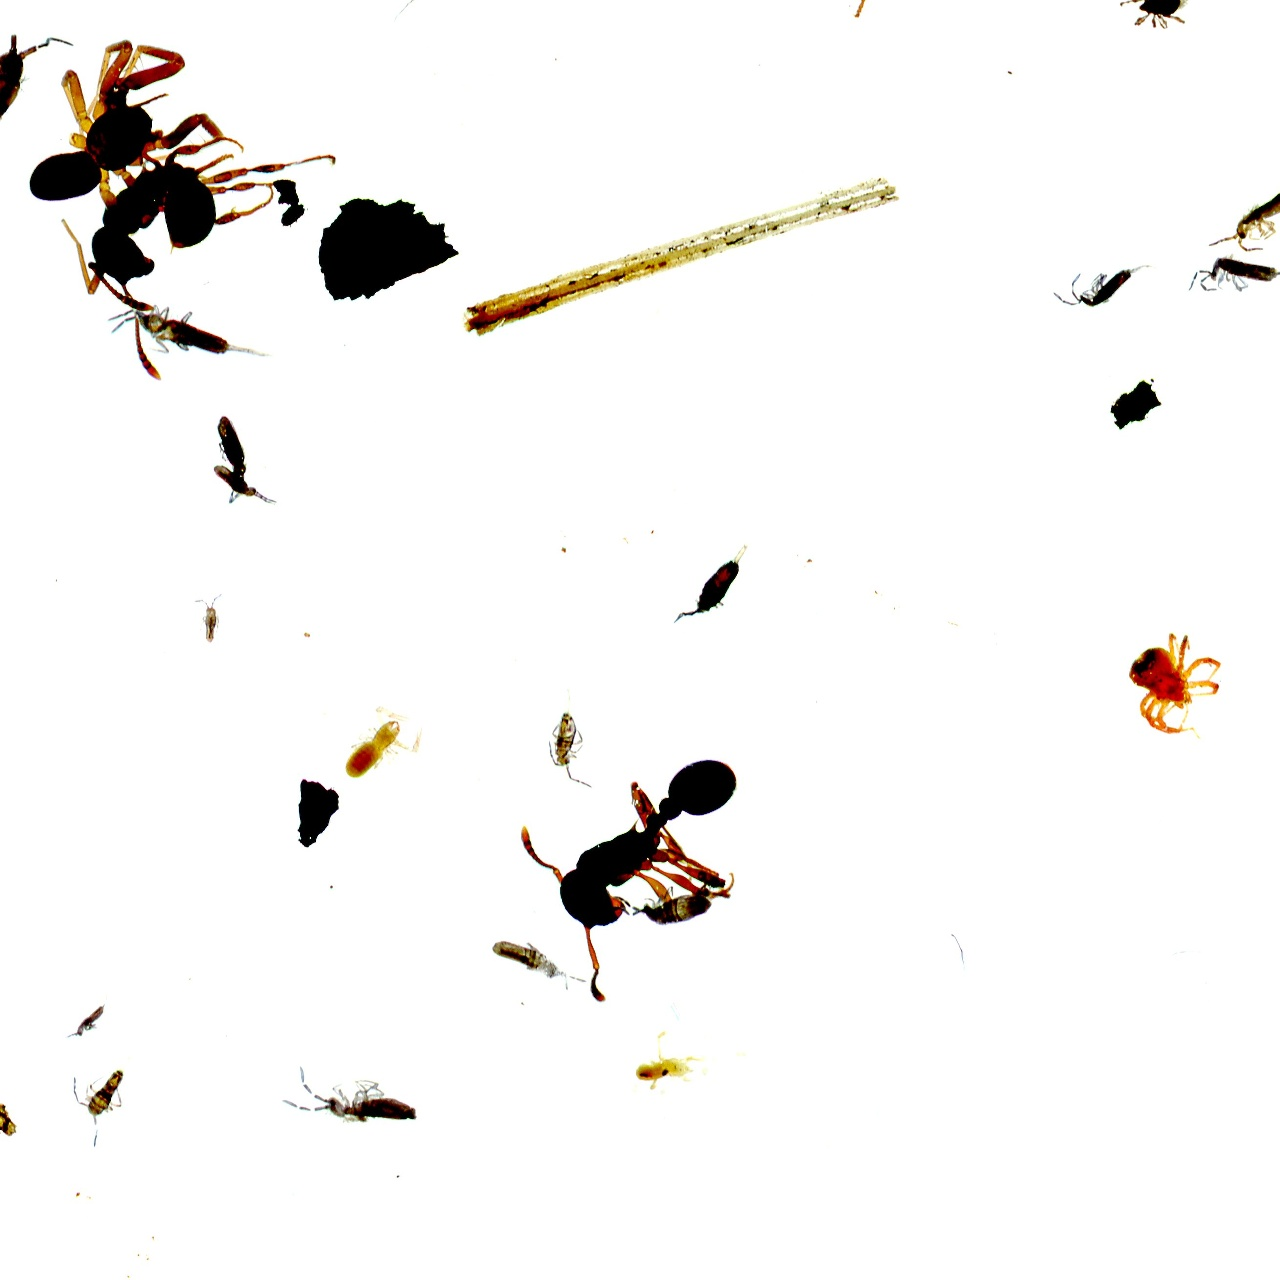arthropod: (450, 669, 801, 1028), (56, 111, 340, 382), (27, 19, 222, 211), (98, 283, 283, 386), (0, 0, 82, 201), (667, 503, 778, 647), (325, 692, 435, 804), (1123, 625, 1228, 739), (280, 1063, 421, 1128), (483, 928, 596, 999), (194, 407, 268, 505), (1205, 159, 1280, 254), (205, 450, 284, 527), (1049, 256, 1158, 309), (633, 1028, 710, 1097), (627, 878, 721, 933), (71, 1063, 127, 1149), (546, 707, 595, 794), (1186, 253, 1280, 298), (183, 589, 233, 644), (1114, 0, 1193, 31), (64, 994, 110, 1040)
